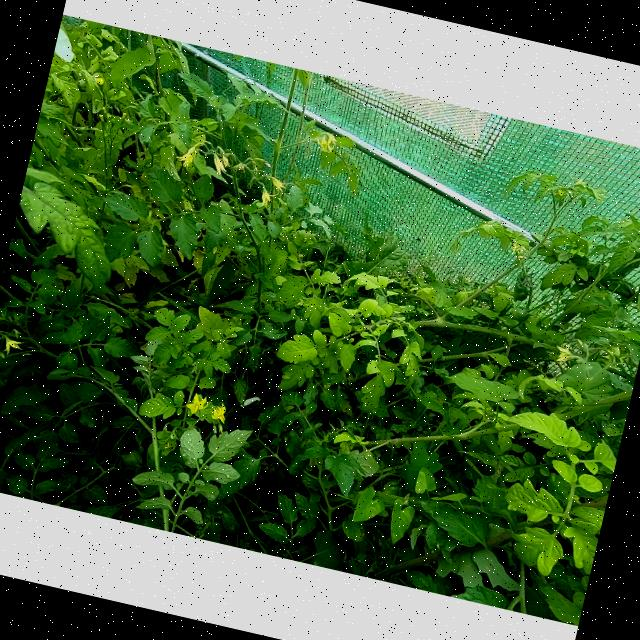Flowers: (172, 135, 202, 171), (274, 194, 305, 228), (183, 391, 209, 416), (0, 333, 25, 358), (552, 341, 576, 366), (206, 400, 228, 425), (506, 240, 530, 259)
